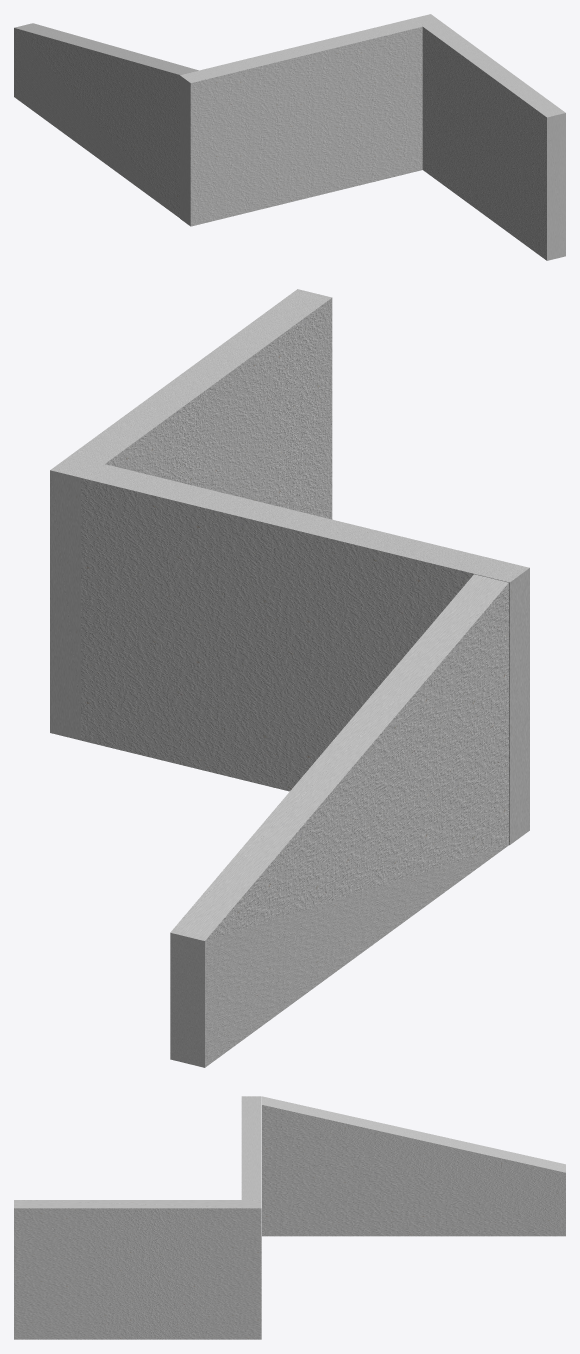
File: Huis2_joined_stairs.fbx
3 renders of one model, top to bottom at view 1: azimuth 30°, elevation 25°; view 2: azimuth 150°, elevation 25°; view 3: azimuth 270°, elevation 25°, orthographic. The views are drawn at different scales.
Parts seen in each view (by area): view 1: Cube.033; view 2: Cube.033; view 3: Cube.033.
Boxes of the visible parts, x1,y1,x2,y2 form: Cube.033: (14, 14, 565, 260); Cube.033: (50, 289, 529, 1067); Cube.033: (14, 1096, 565, 1339).
Bounding box in the file's own units: 193 × 105 × 402.
